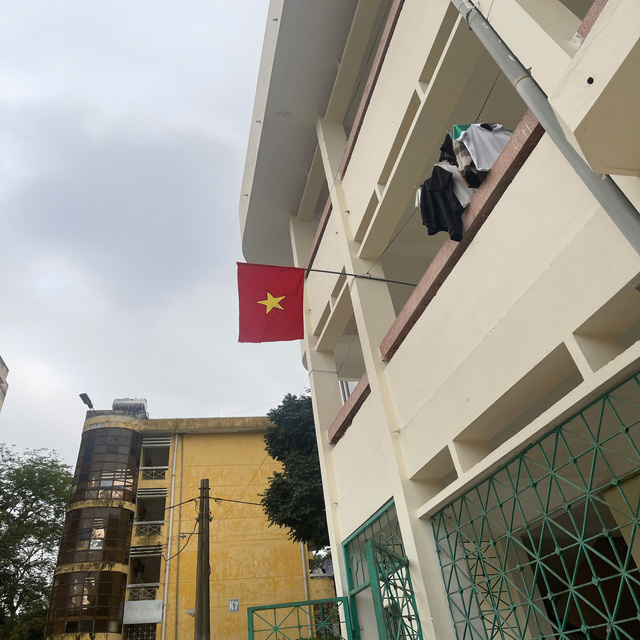laco: (225, 257, 316, 352)
